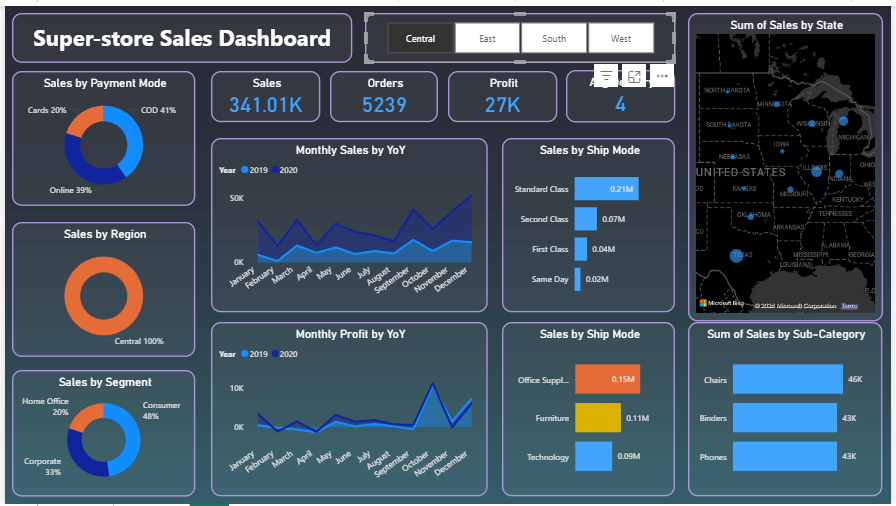

This screenshot's page, from the dashboard's own definition file:
{"tool":"powerbi","page":{"name":"Page 1","canvas":[1280,720],"ordinal":0},"visuals":[{"type":"textbox","box":[10.1,10.1,492.2,72.2],"z":0},{"type":"donutChart","title":"Sales by Payment Mode","fields":{"Category":["SuperStore_Sales_Dataset.Payment Mode"],"Y":["Sum(SuperStore_Sales_Dataset.Sales)"]},"box":[10.1,94.1,265.4,194.9],"z":1000},{"type":"donutChart","title":"Sales by Region","fields":{"Category":["SuperStore_Sales_Dataset.Region"],"Y":["Sum(SuperStore_Sales_Dataset.Sales)"]},"box":[10.1,312.4,265.4,194.9],"z":2000},{"type":"donutChart","title":"Sales by Segment","fields":{"Y":["Sum(SuperStore_Sales_Dataset.Sales)"],"Category":["SuperStore_Sales_Dataset.Segment"]},"box":[10.1,525.8,265.4,183.1],"z":3000},{"type":"slicer","fields":{"Values":["SuperStore_Sales_Dataset.Region"]},"box":[520.7,10.1,448.5,72.2],"z":4000},{"type":"card","title":"Sales","fields":{"Values":["Sum(SuperStore_Sales_Dataset.Sales)"]},"box":[297.3,94.1,157.9,73.9],"z":5000},{"type":"card","title":"Profit","fields":{"Values":["Sum(SuperStore_Sales_Dataset.Profit)"]},"box":[640,94.1,157.9,73.9],"z":6000},{"type":"card","title":"Orders","fields":{"Values":["Sum(SuperStore_Sales_Dataset.Quantity)"]},"box":[470.3,94.1,156.2,73.9],"z":7000},{"type":"card","title":"Avg Delivery","fields":{"Values":["Avg(SuperStore_Sales_Dataset.AvgDelivery)"]},"box":[811.3,92.4,157.9,75.6],"z":8000},{"type":"stackedAreaChart","title":"Monthly Sales by YoY","fields":{"Category":["SuperStore_Sales_Dataset.Order Date.Variation.Date Hierarchy.Month"],"Y":["Sum(SuperStore_Sales_Dataset.Sales)"],"Series":["SuperStore_Sales_Dataset.Order Date.Variation.Date Hierarchy.Year"]},"box":[297.3,191.5,399.8,252],"z":9000},{"type":"stackedAreaChart","title":"Monthly Profit by YoY","fields":{"Category":["SuperStore_Sales_Dataset.Order Date.Variation.Date Hierarchy.Month"],"Y":["Sum(SuperStore_Sales_Dataset.Profit)"],"Series":["SuperStore_Sales_Dataset.Order Date.Variation.Date Hierarchy.Year"]},"box":[297.3,456.9,399.8,252],"z":10000},{"type":"clusteredBarChart","title":"Sales by Ship Mode","fields":{"Y":["Sum(SuperStore_Sales_Dataset.Sales)"],"Category":["SuperStore_Sales_Dataset.Ship Mode"]},"box":[719,191.5,250.3,252],"z":11000},{"type":"clusteredBarChart","title":"Sales by Ship Mode","fields":{"Y":["Sum(SuperStore_Sales_Dataset.Sales)"],"Category":["SuperStore_Sales_Dataset.Category"]},"box":[719,456.9,250.3,252],"z":12000},{"type":"clusteredBarChart","fields":{"Y":["Sum(SuperStore_Sales_Dataset.Sales)"],"Category":["SuperStore_Sales_Dataset.Sub-Category"]},"box":[987.7,456.9,280.5,252],"z":13000},{"type":"map","fields":{"Category":["SuperStore_Sales_Dataset.State"],"Size":["Sum(SuperStore_Sales_Dataset.Sales)"]},"box":[987.5,10.1,281.9,446],"z":14000}]}

Visuals, with their boxes in screenshot pixels (x1, y1, x2, y2), scaled from the page's 1280x720 canvas onto the 896x506 screenshot:
textbox: bbox=(7, 7, 352, 58)
"Sales by Payment Mode" donutChart: bbox=(7, 66, 193, 203)
"Sales by Region" donutChart: bbox=(7, 220, 193, 357)
"Sales by Segment" donutChart: bbox=(7, 370, 193, 498)
slicer - SuperStore_Sales_Dataset.Region: bbox=(364, 7, 678, 58)
"Sales" card: bbox=(208, 66, 319, 118)
"Profit" card: bbox=(448, 66, 559, 118)
"Orders" card: bbox=(329, 66, 439, 118)
"Avg Delivery" card: bbox=(568, 65, 678, 118)
"Monthly Sales by YoY" stackedAreaChart: bbox=(208, 135, 488, 312)
"Monthly Profit by YoY" stackedAreaChart: bbox=(208, 321, 488, 498)
"Sales by Ship Mode" clusteredBarChart: bbox=(503, 135, 679, 312)
"Sales by Ship Mode" clusteredBarChart: bbox=(503, 321, 679, 498)
clusteredBarChart - Sum(SuperStore_Sales_Dataset.Sales) x SuperStore_Sales_Dataset.Sub-Category: bbox=(691, 321, 888, 498)
map - SuperStore_Sales_Dataset.State x Sum(SuperStore_Sales_Dataset.Sales): bbox=(691, 7, 889, 321)
